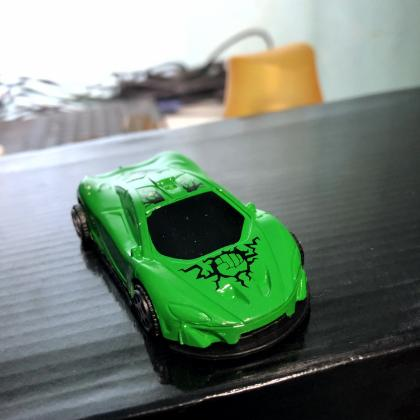Car: (66, 145, 316, 368)
